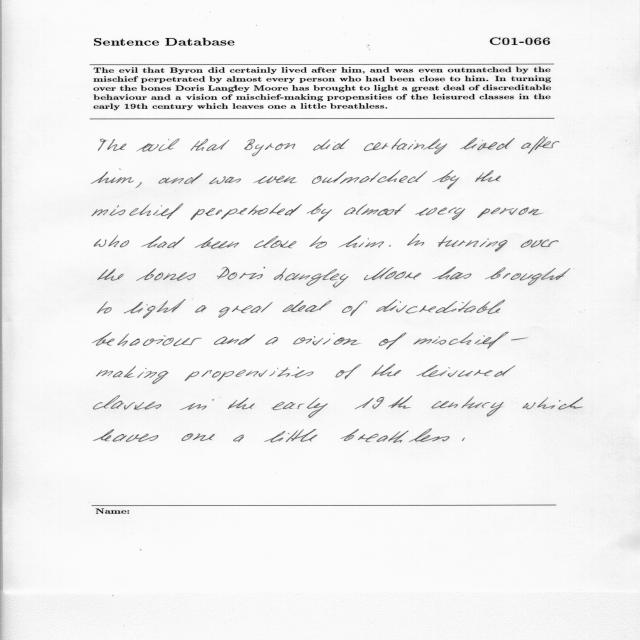word: (413, 332, 528, 349), (376, 299, 505, 314), (185, 367, 314, 382), (190, 204, 302, 221), (341, 428, 450, 443), (312, 170, 427, 184), (92, 332, 202, 346), (431, 396, 504, 417), (485, 268, 570, 286), (92, 203, 183, 219), (274, 268, 349, 287), (364, 138, 447, 154), (96, 366, 169, 384), (416, 365, 515, 377), (124, 300, 186, 319), (271, 398, 328, 418), (438, 236, 508, 252), (94, 395, 162, 410), (218, 302, 273, 318), (245, 139, 296, 156), (93, 429, 158, 442), (293, 333, 361, 345), (344, 203, 406, 216), (522, 397, 583, 410), (136, 268, 196, 281), (355, 396, 413, 409), (364, 267, 421, 280), (477, 207, 544, 218), (460, 138, 515, 151), (264, 429, 318, 442), (415, 207, 465, 220), (521, 137, 559, 154), (91, 169, 134, 184), (217, 267, 265, 280), (282, 300, 332, 312), (339, 235, 384, 248), (136, 139, 180, 152), (195, 237, 240, 249), (432, 170, 460, 189), (141, 236, 185, 248), (254, 236, 297, 248), (433, 267, 472, 280), (159, 173, 203, 184), (379, 333, 407, 350), (191, 139, 230, 151), (214, 334, 255, 345), (307, 204, 332, 222), (94, 235, 129, 247), (313, 139, 349, 150), (336, 364, 362, 379), (372, 364, 402, 377), (342, 301, 367, 316), (180, 399, 214, 410), (99, 138, 127, 151), (253, 176, 297, 184), (521, 239, 559, 248), (228, 398, 255, 410), (475, 170, 501, 182), (98, 269, 124, 281), (181, 433, 215, 441), (209, 176, 241, 184), (310, 236, 327, 249), (407, 234, 424, 246), (98, 301, 112, 314), (265, 337, 278, 345), (195, 305, 206, 313), (233, 435, 244, 443), (135, 182, 142, 188), (462, 438, 465, 441), (389, 245, 391, 247)
